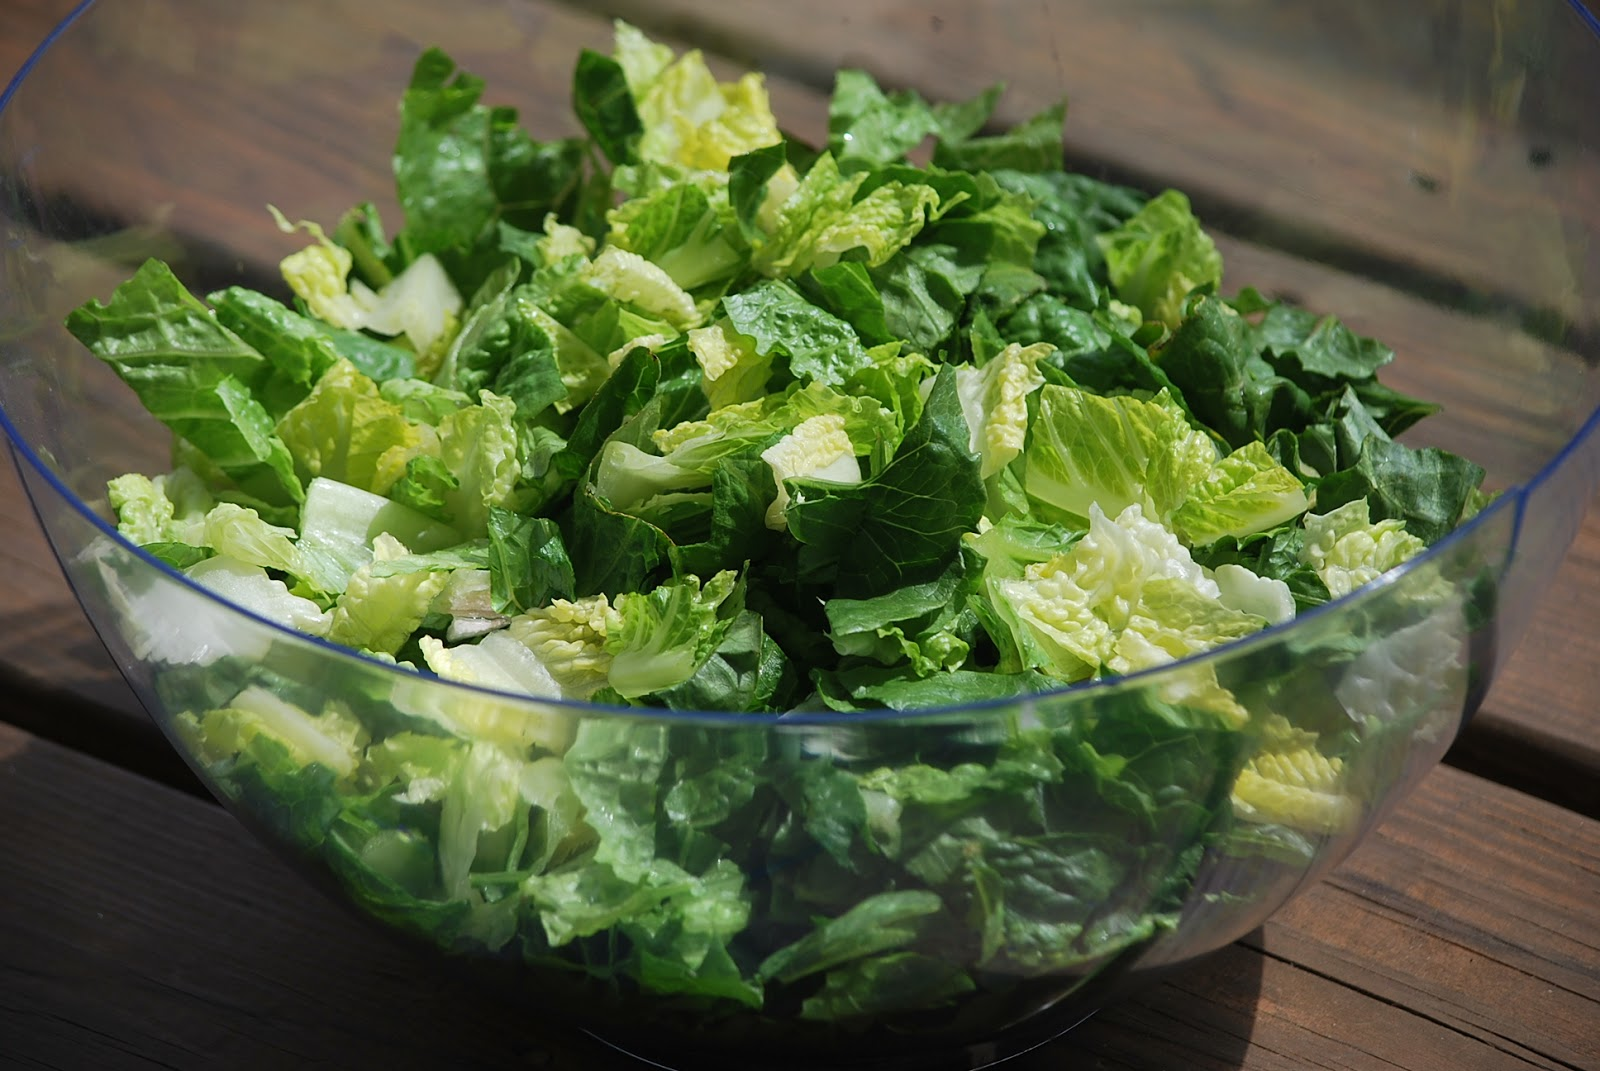chopped lettuce: (166, 76, 1365, 733)
